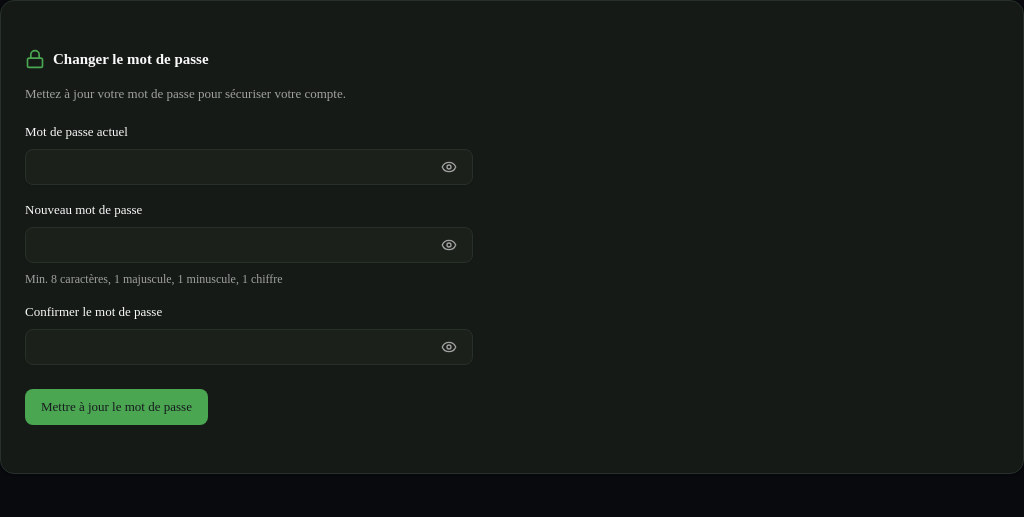
Test: PasswordChangeForm › reports a mismatched confirmation without calling the API
Type "ancien-mot-de-passe" into the password field labelled "Mot de passe actuel" at (249, 167), box [25, 149, 473, 185]
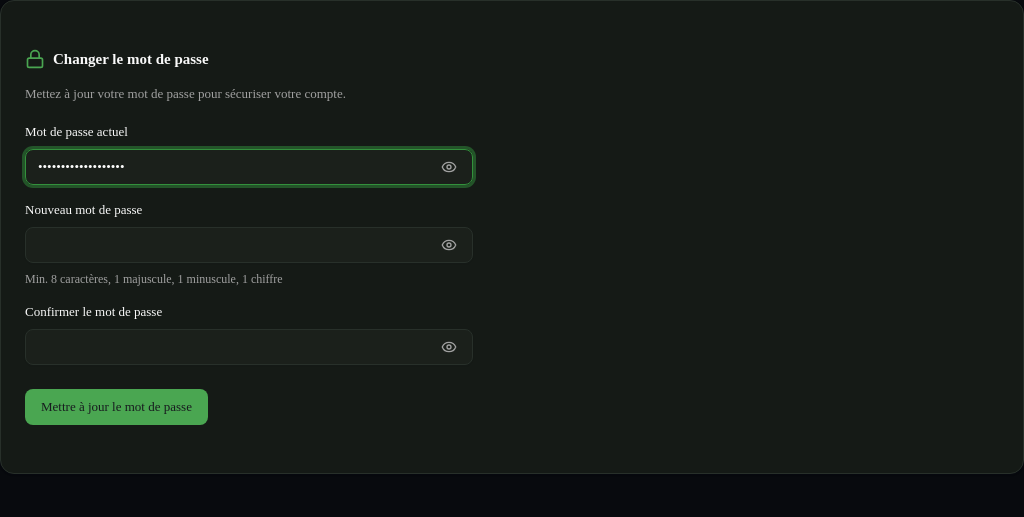
Type "Nouveau123" into the password field labelled "Nouveau mot de passe" at (249, 245), box [25, 227, 473, 263]
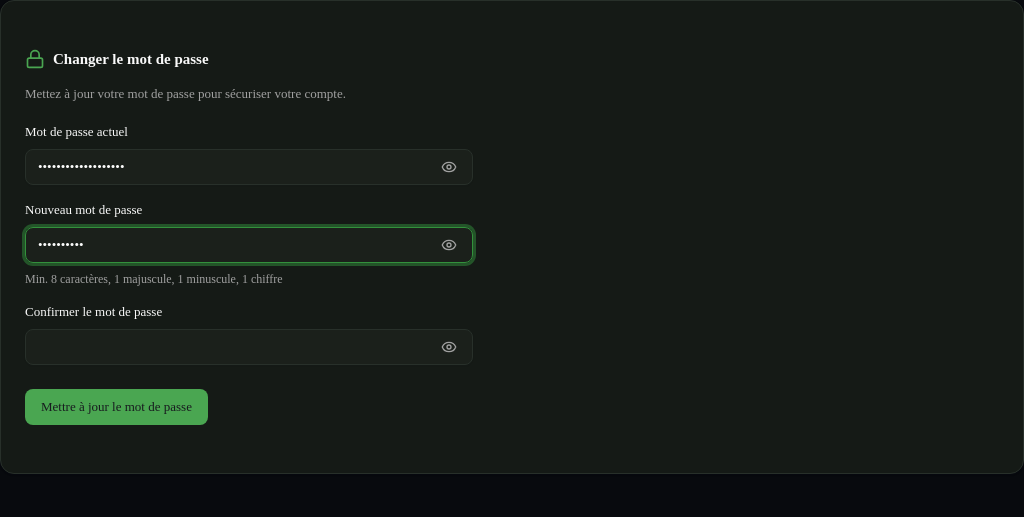
Type "Different123" into the password field labelled "Confirmer le mot de passe" at (249, 347), box [25, 329, 473, 365]
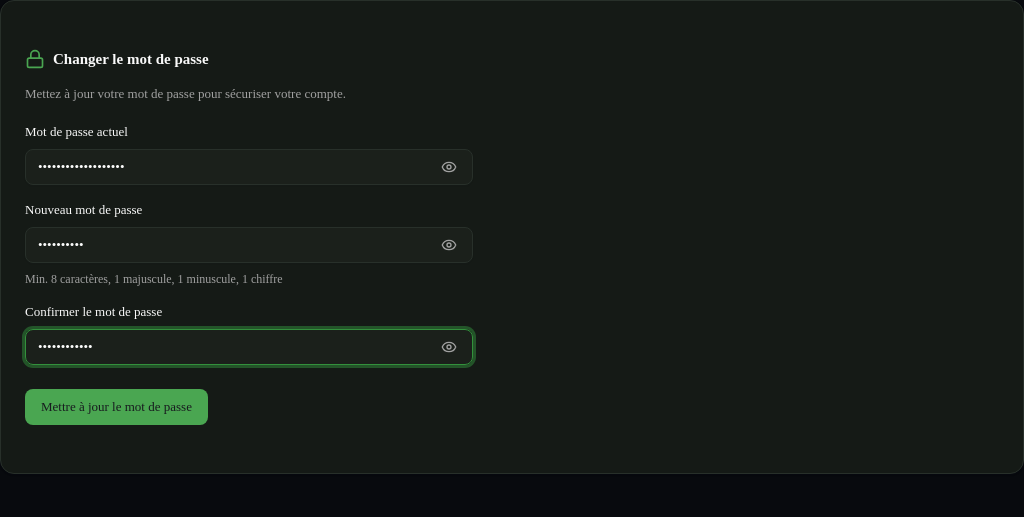
Click the button "Mettre à jour le mot de passe" at (116, 407), box [25, 389, 208, 425]
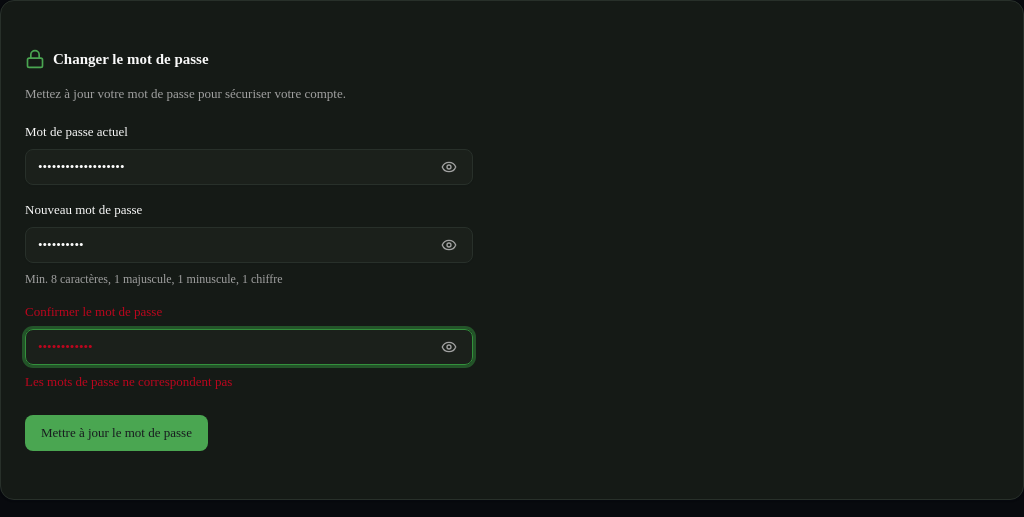
Expected: the text "Les mots de passe ne correspondent pas" is shown, [25, 374, 232, 389]
